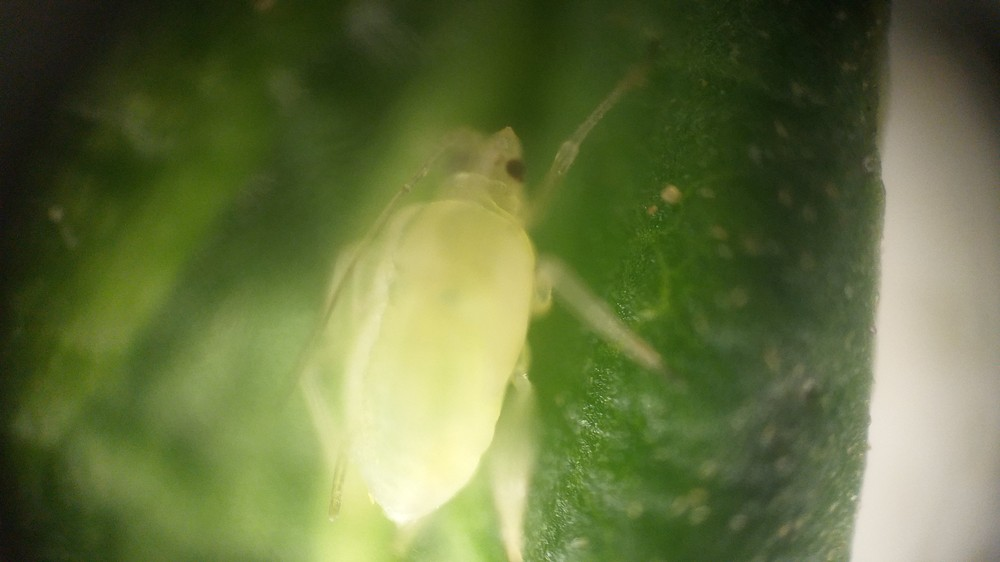Pulgon: (263, 71, 703, 559)
